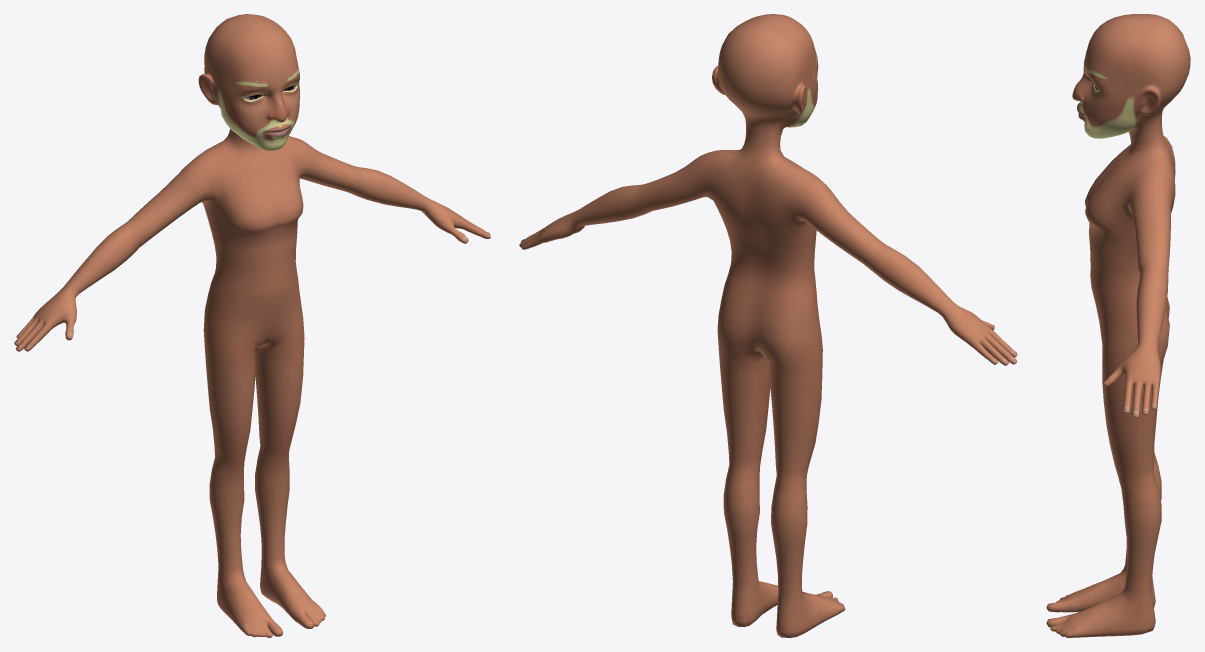
Rendered from frame_0070.glb.
3 views of the same model, side by side, from view 1: azimuth 30°, elevation 25°; view 2: azimuth 150°, elevation 25°; view 3: azimuth 270°, elevation 25° (orthographic). The views are drawn at different scales.
Visible parts, largest first — view 1: frame_0070_head_geo; view 2: frame_0070_head_geo; view 3: frame_0070_head_geo.
Boxes of the visible parts, <box> form: frame_0070_head_geo: <box>14,14,490,637</box>; frame_0070_head_geo: <box>519,14,1017,637</box>; frame_0070_head_geo: <box>1046,14,1190,637</box>.
Size of the model in its own units: 1.28 by 1.5 by 0.3253.
Materials: 3 (3 with a texture image).
